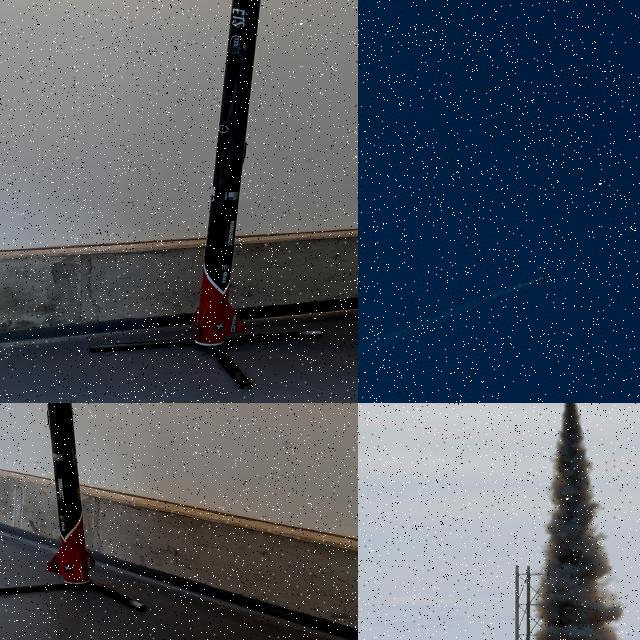Rocket: (191, 0, 261, 346), (46, 403, 95, 584), (540, 273, 553, 280)
